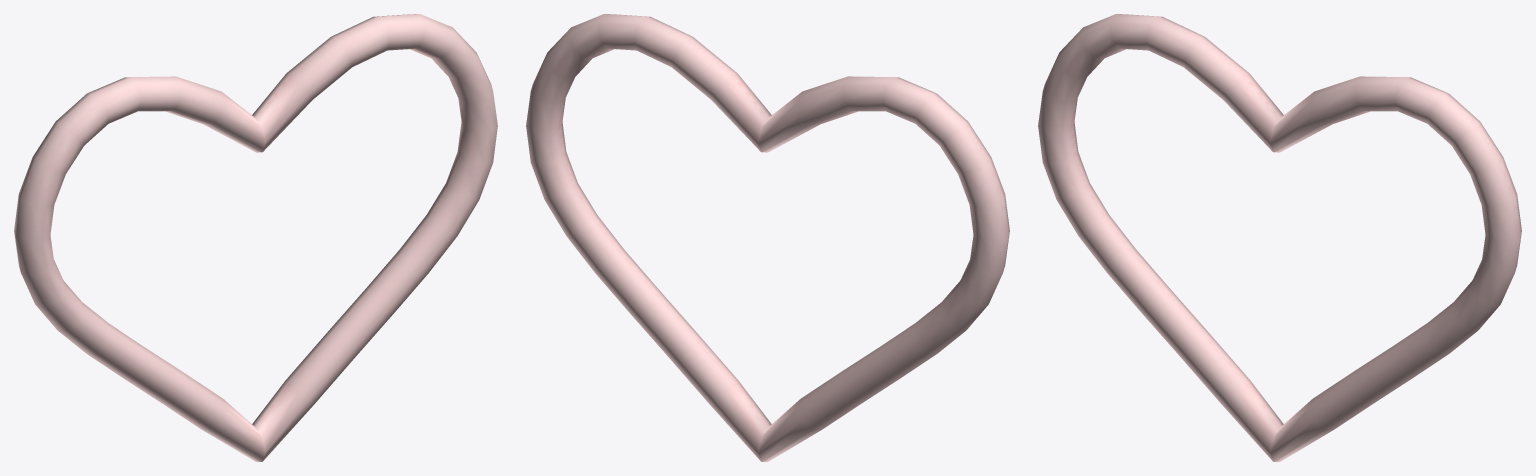
Rendered from HeartChaines1.fbx.
3 views of the same model, side by side, from view 1: azimuth 30°, elevation 25°; view 2: azimuth 150°, elevation 25°; view 3: azimuth 330°, elevation 25° (orthographic).
Visible parts, largest first — view 1: ChestCavity Heart_6; view 2: ChestCavity Heart_6; view 3: ChestCavity Heart_6.
Part boxes in pixels (box(x1,y1,x2,y2)): ChestCavity Heart_6: box(14, 14, 497, 461); ChestCavity Heart_6: box(526, 14, 1009, 461); ChestCavity Heart_6: box(1038, 14, 1521, 461).
Size of the model in its own units: 8.05 by 6.65 by 0.5485.
